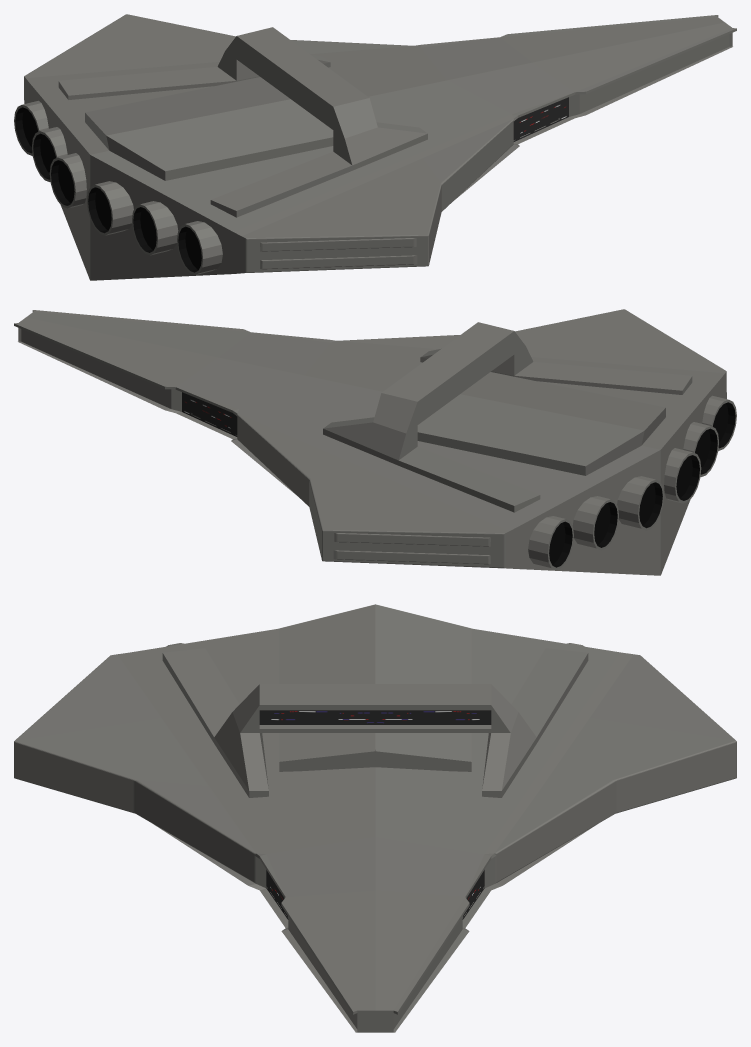
Rendered from Battleship1.fbx.
The picture shows the model from 3 angles, top to bottom: view 1: azimuth 30°, elevation 25°; view 2: azimuth 150°, elevation 25°; view 3: azimuth 270°, elevation 25°; orthographic projection. The views are drawn at different scales.
Visible parts, largest first — view 1: Battleship1; view 2: Battleship1; view 3: Battleship1.
Boxes of the visible parts, x1,y1,x2,y2 form: Battleship1: (14,14,736,280); Battleship1: (14,309,736,575); Battleship1: (14,604,736,1032).
Size of what is drawn, in the model's own units: 3559 by 852 by 2883.
